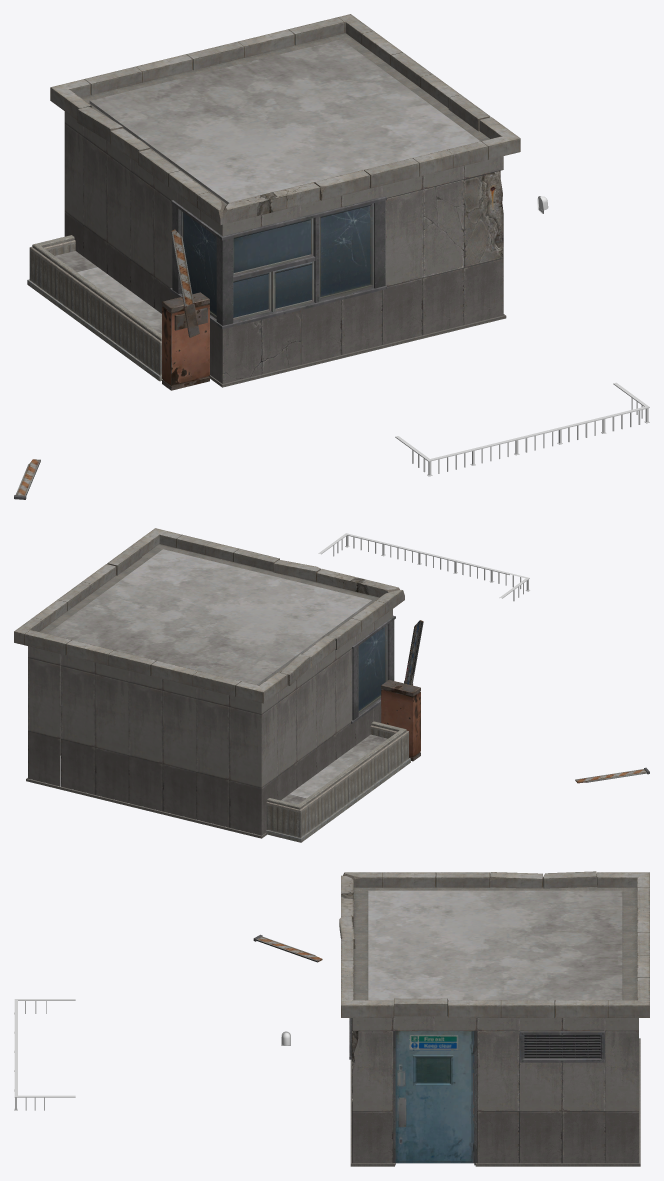
Rendered from House_05.fbx.
3 renders of one model, top to bottom at view 1: azimuth 30°, elevation 25°; view 2: azimuth 150°, elevation 25°; view 3: azimuth 270°, elevation 25°, orthographic. The views are drawn at different scales.
Parts seen in each view (by area): view 1: Hotel_STR_House_05, Hotel_STR_House_05_Metal_01; view 2: Hotel_STR_House_05, Hotel_STR_House_05_Metal_01; view 3: Hotel_STR_House_05, Hotel_STR_House_05_Metal_01.
Boxes of the visible parts, x1=… form: Hotel_STR_House_05: x1=14, y1=14, x2=520, y2=499; Hotel_STR_House_05_Metal_01: x1=395, y1=196, x2=649, y2=476; Hotel_STR_House_05: x1=14, y1=528, x2=649, y2=842; Hotel_STR_House_05_Metal_01: x1=318, y1=533, x2=529, y2=601; Hotel_STR_House_05: x1=253, y1=871, x2=649, y2=1166; Hotel_STR_House_05_Metal_01: x1=14, y1=999, x2=290, y2=1110.
Size of the model in its own units: 1048 by 354 by 1152.
Materials: 3 (2 with a texture image).
